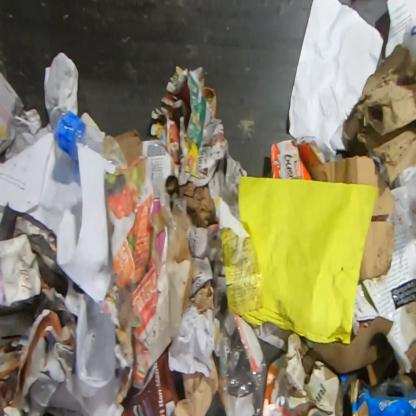cardboard: (342, 42, 415, 191), (301, 315, 395, 387), (261, 332, 342, 415), (270, 136, 326, 180), (346, 380, 415, 415), (114, 128, 143, 168)
rigid_plastic: (48, 105, 119, 168)
soft_plastic: (215, 309, 269, 415)
